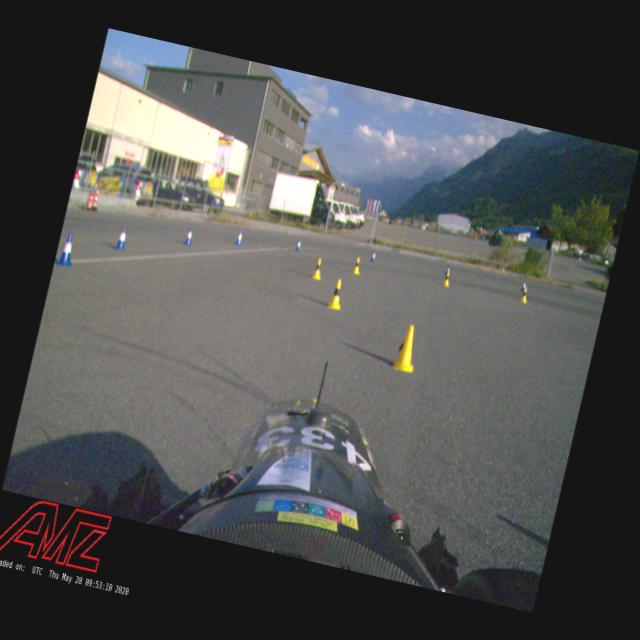blue_cone: (55, 230, 78, 266), (114, 225, 130, 250), (233, 228, 244, 246), (183, 227, 194, 245), (294, 238, 303, 252), (369, 252, 376, 262)
yellow_cone: (392, 323, 421, 371), (328, 278, 346, 309), (311, 257, 324, 280), (518, 286, 530, 304), (352, 256, 362, 274), (442, 270, 452, 288)
